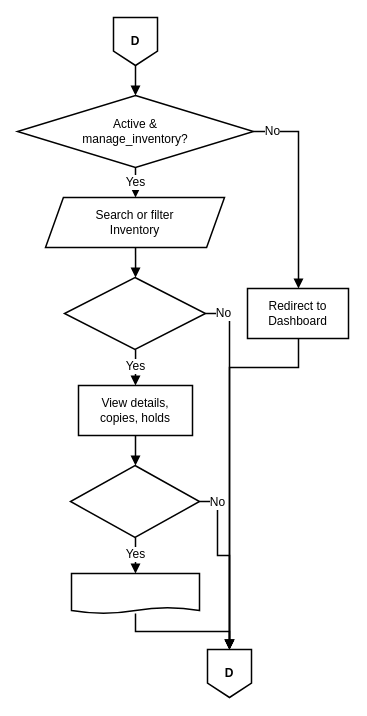
This 367x716 diagram has some shape labels left out. The centre of each missing label's shape, as x and y in pixels:
"Open book details?" goes at point (134, 313).
"Print QR labels" goes at point (135, 593).
"Print QR labels?" goes at point (134, 501).
